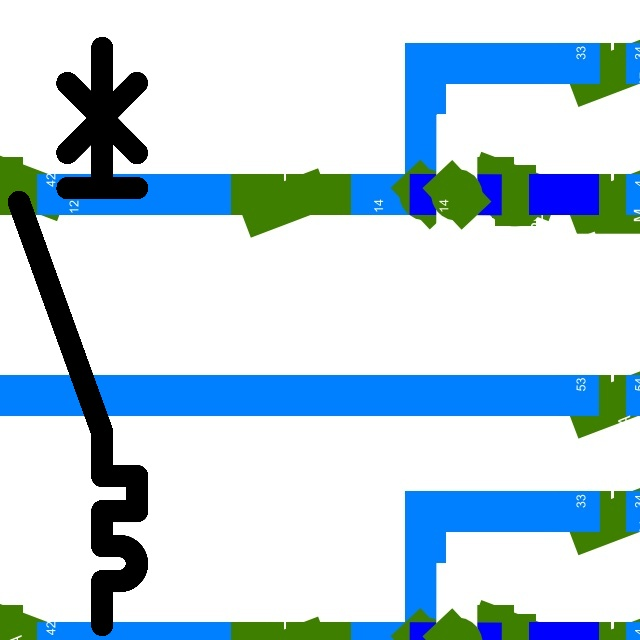interruptor_termomagnetico: (4, 33, 152, 640)
